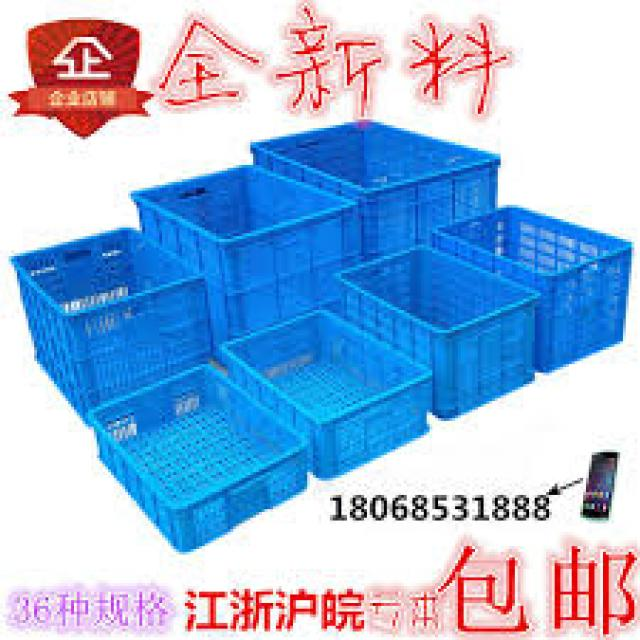basket: (129, 125, 386, 357), (78, 330, 327, 569), (307, 220, 567, 444), (215, 267, 456, 500), (0, 192, 236, 425), (252, 82, 517, 282)
